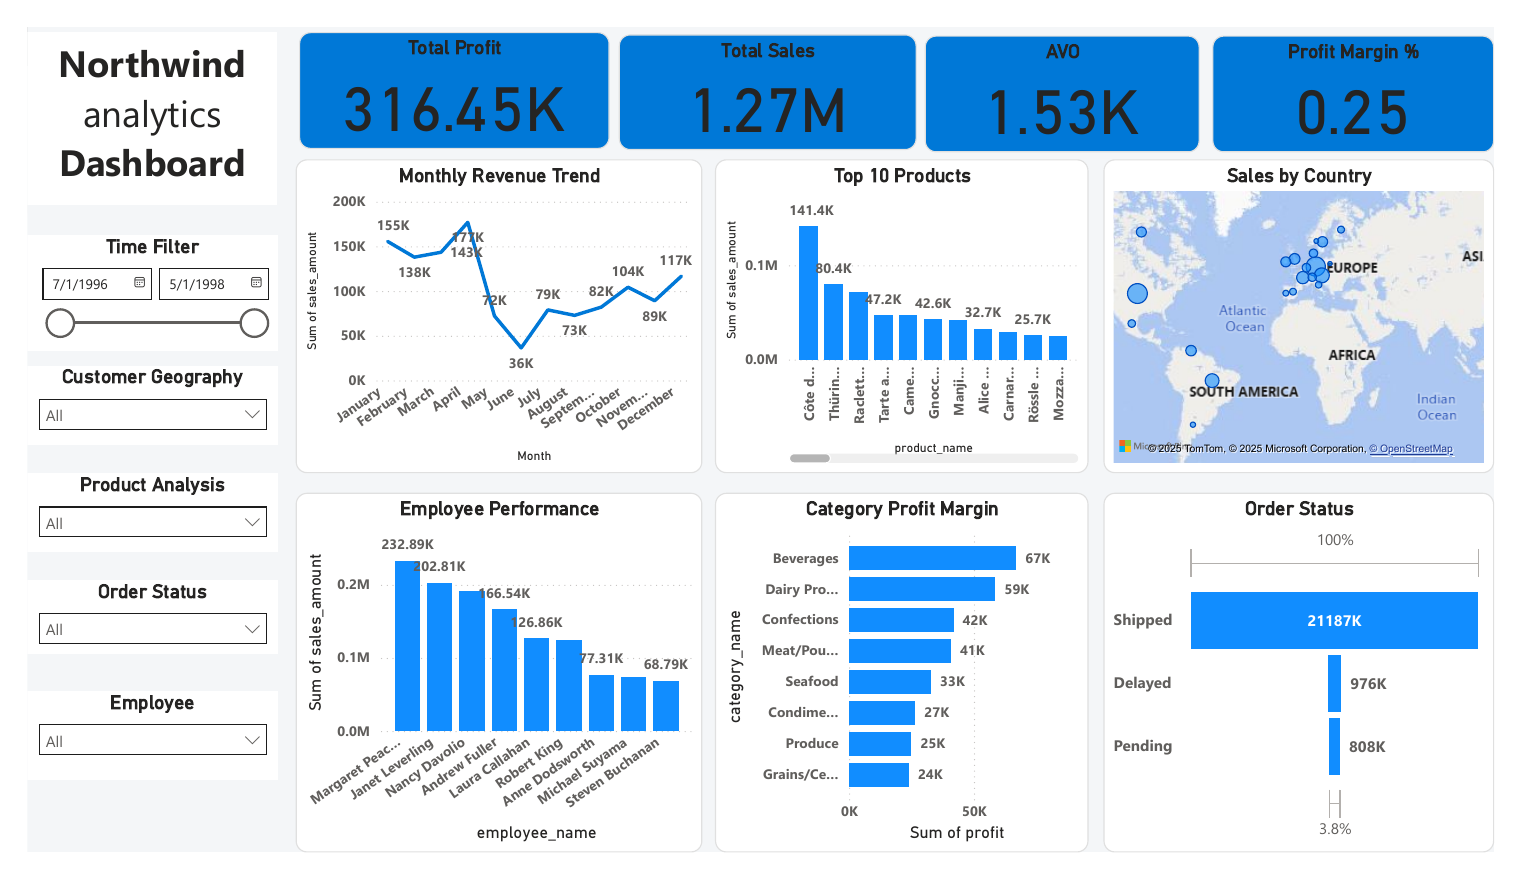

What the dashboard file says about the page in this screenshot:
{"tool":"powerbi","page":{"name":"Page 1","canvas":[1280,720],"ordinal":0},"visuals":[{"type":"lineChart","title":"Monthly Revenue Trend","fields":{"Category":["Query1.order_date.Variation.Date Hierarchy.Month"],"Y":["Sum(Query1.sales_amount)"]},"box":[233.6,114.6,355.6,274.8],"z":0},{"type":"columnChart","title":"Top 10 Products","fields":{"Category":["Query1.product_name"],"Y":["Sum(Query1.sales_amount)"]},"box":[599.5,114.6,326.2,274.8],"z":1000},{"type":"map","title":"Sales by Country","fields":{"Category":["Query1.customer_country"],"Size":["Sum(Query1.sales_amount)"]},"box":[938.9,114.6,340.9,274.8],"z":2000},{"type":"columnChart","title":"Employee Performance","fields":{"Category":["Query1.employee_name"],"Y":["Sum(Query1.sales_amount)"]},"box":[233.6,405.6,355.6,314.4],"z":3000},{"type":"clusteredBarChart","title":"Category Profit Margin","fields":{"Category":["Query1.category_name"],"Y":["Sum(Query1.profit)"]},"box":[599.5,405.6,326.2,314.4],"z":4000},{"type":"funnel","title":" Order Status","fields":{"Category":["Query1.order_status"],"Y":["Sum(Query1.order_id)"]},"box":[938.9,405.6,340.9,314.4],"z":5000},{"type":"card","title":"Total Sales","fields":{"Values":["Query1.Total Sales"]},"box":[515.8,5.9,260.1,101.4],"z":6000},{"type":"card","title":"Total Profit","fields":{"Values":["Query1.Total Profit"]},"box":[236.6,4.4,271.8,101.4],"z":7000},{"type":"card","title":"AVO","fields":{"Values":["Query1.Average Oarder Value"]},"box":[783.2,7.3,239.5,101.4],"z":8000},{"type":"slicer","title":"Time Filter","fields":{"Values":["Query1.order_month"]},"box":[0,180.7,218.9,101.4],"z":9000},{"type":"slicer","title":"Customer Geography ","fields":{"Values":["Query1.customer_country"]},"box":[0,295.3,218.9,69.1],"z":10000},{"type":"slicer","title":"Product Analysis ","fields":{"Values":["Query1.category_name"]},"box":[0,389.4,218.9,69.1],"z":11000},{"type":"slicer","title":"Employee","fields":{"Values":["Query1.employee_name"]},"box":[0,578.9,218.9,77.9],"z":12000},{"type":"slicer","title":"Order Status","fields":{"Values":["Query1.order_status"]},"box":[0,482,218.9,64.7],"z":13000},{"type":"card","title":"Profit Margin %","fields":{"Values":["Query1.Profit Margin %"]},"box":[1034.4,7.3,245.4,101.4],"z":14000},{"type":"textbox","box":[0,4.3,218.3,150.4],"z":15000}]}

Visuals, with their boxes in screenshot pixels (x1, y1, x2, y2), scaled from the page's 1280x720 canvas onto the 1522x880 screenshot:
"Monthly Revenue Trend" lineChart: crop(278, 140, 701, 476)
"Top 10 Products" columnChart: crop(713, 140, 1101, 476)
"Sales by Country" map: crop(1116, 140, 1521, 476)
"Employee Performance" columnChart: crop(278, 496, 701, 879)
"Category Profit Margin" clusteredBarChart: crop(713, 496, 1101, 879)
" Order Status" funnel: crop(1116, 496, 1521, 879)
"Total Sales" card: crop(613, 7, 923, 131)
"Total Profit" card: crop(281, 5, 605, 129)
"AVO" card: crop(931, 9, 1216, 133)
"Time Filter" slicer: crop(0, 221, 260, 345)
"Customer Geography " slicer: crop(0, 361, 260, 445)
"Product Analysis " slicer: crop(0, 476, 260, 560)
"Employee" slicer: crop(0, 708, 260, 803)
"Order Status" slicer: crop(0, 589, 260, 668)
"Profit Margin %" card: crop(1230, 9, 1521, 133)
textbox: crop(0, 5, 260, 189)
